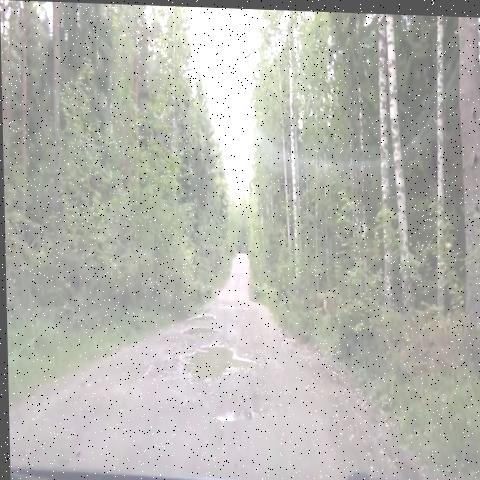pothole: (176, 319, 261, 394), (207, 392, 263, 435), (179, 308, 226, 344), (185, 303, 217, 326)
